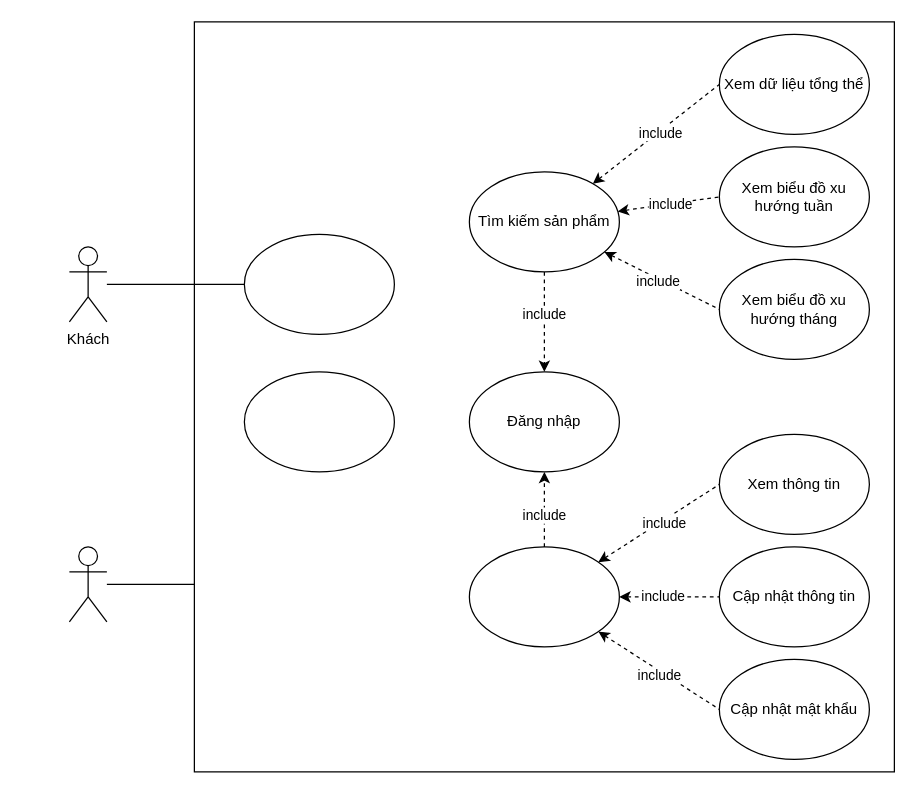
Some shapes in this 916 by 794 pixel diagram are drawn without their labels. Each missing label, with the box of its shape:
Người dùng thường: (68, 546, 107, 622)
Trang chính: (243, 233, 394, 334)
Tài khoản: (468, 546, 619, 647)
Đăng ký: (243, 371, 394, 472)
